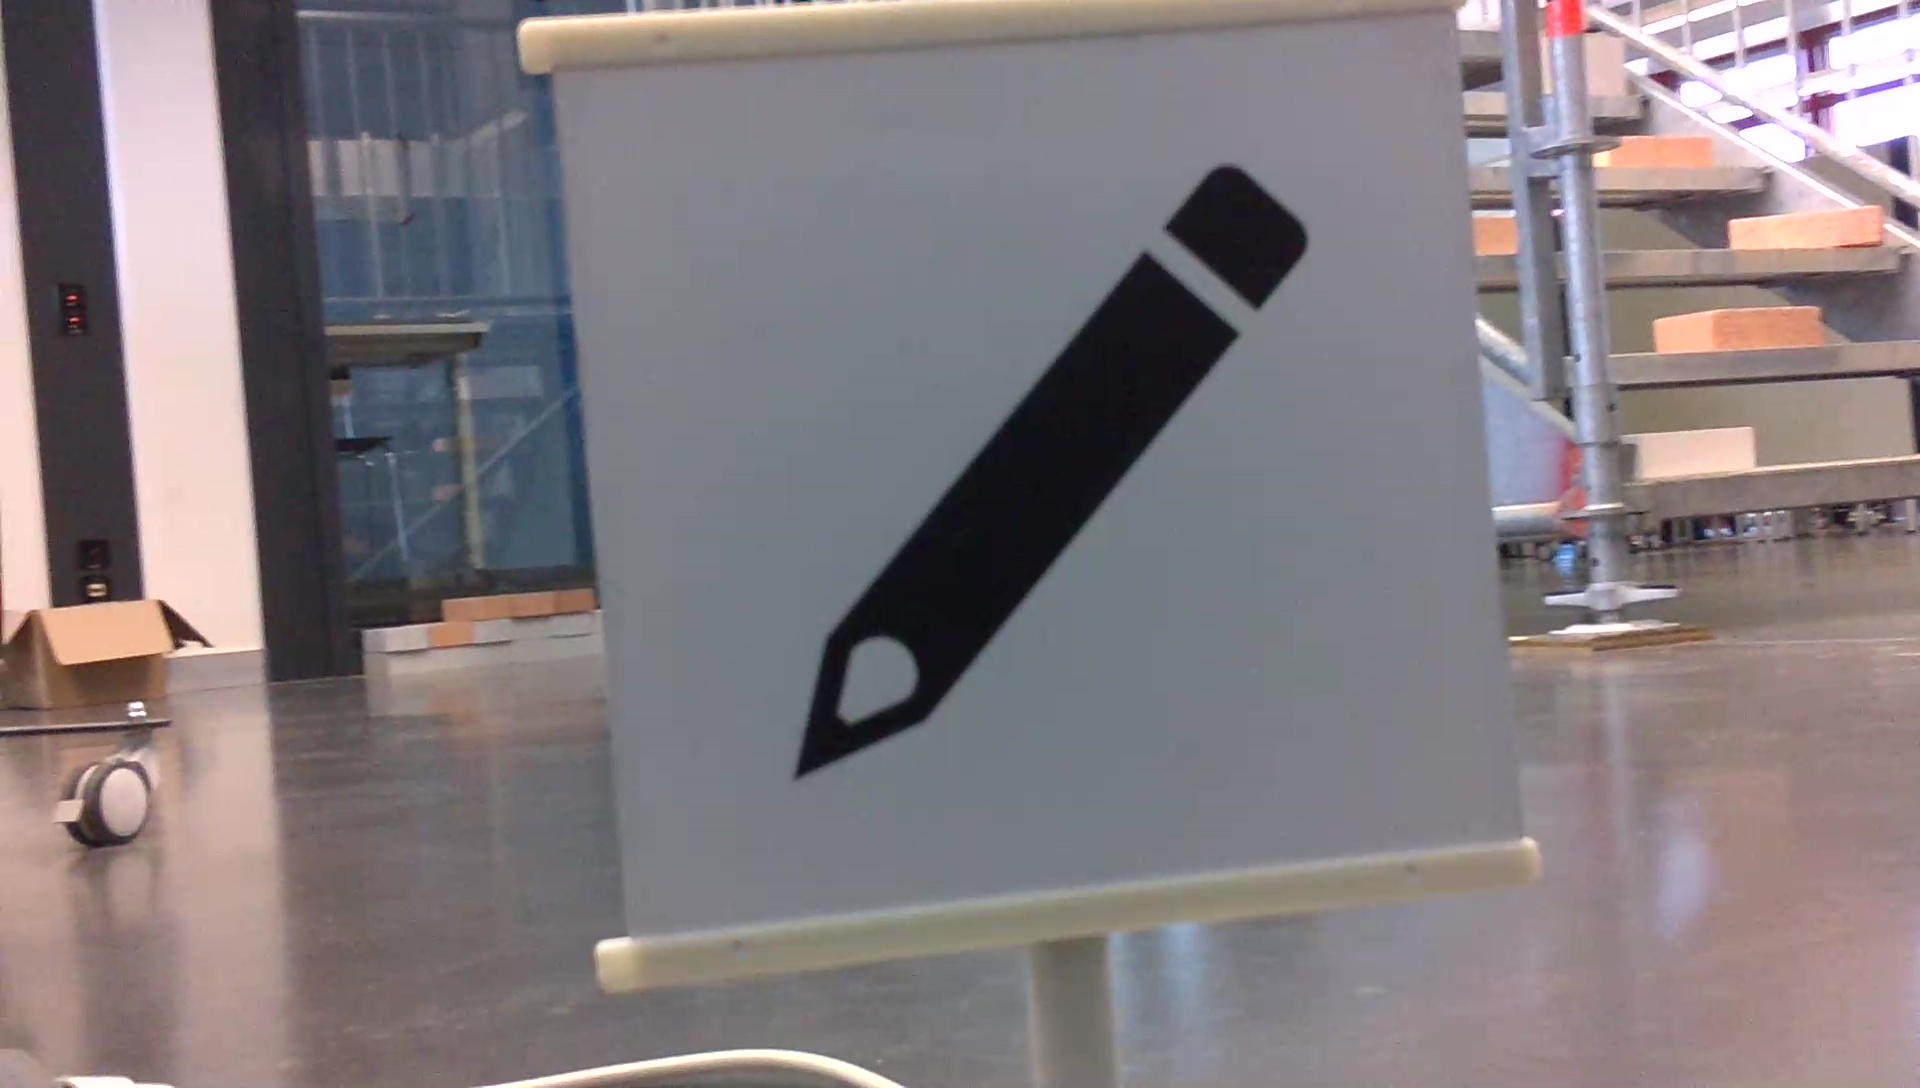brick: (1654, 307, 1820, 351), (1633, 426, 1753, 473), (1735, 208, 1878, 247), (1607, 135, 1713, 167), (1585, 38, 1622, 98)
edge: (1647, 452, 1917, 522), (1610, 343, 1915, 386), (1600, 243, 1909, 278), (1594, 167, 1778, 190)
pencil: (769, 148, 1327, 803)
